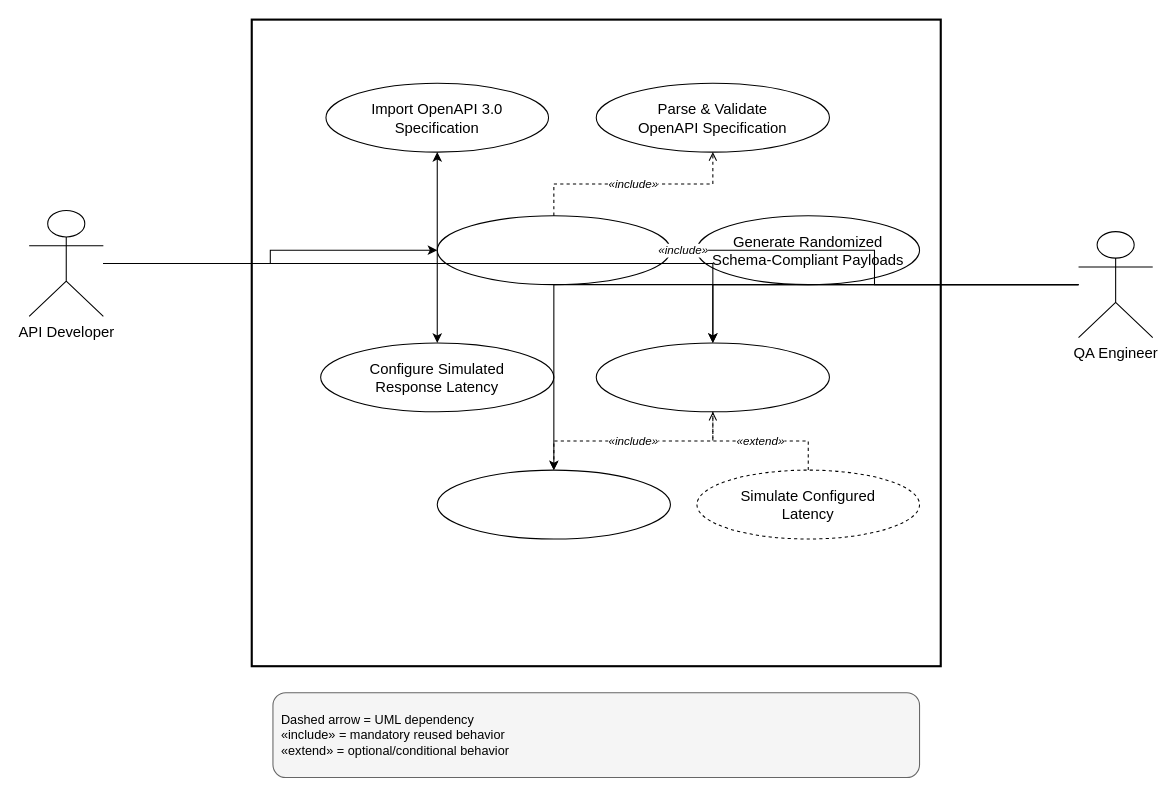
Image size: 1176x796. Some labels were removed from this diagram. Here are the shapes that lost their labels. From the top down, the box of each, then its label:
(436, 215, 670, 285): Generate Dynamic Mock Endpoints
(250, 18, 941, 667): OpenAPI Mock Server Generator
(595, 342, 829, 412): Send / Test Mock API Requests
(436, 469, 670, 539): Validate Request / Response Against Schema
